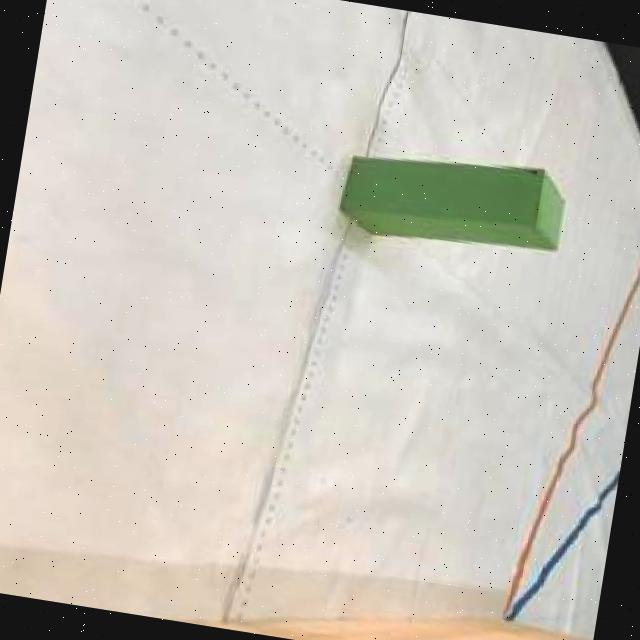greenbox: (342, 138, 568, 260)
